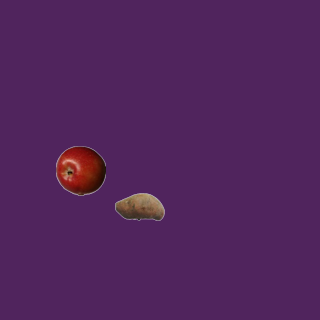Apple Braeburn: (55, 145, 105, 195)
Potato Sweet: (114, 181, 164, 231)
